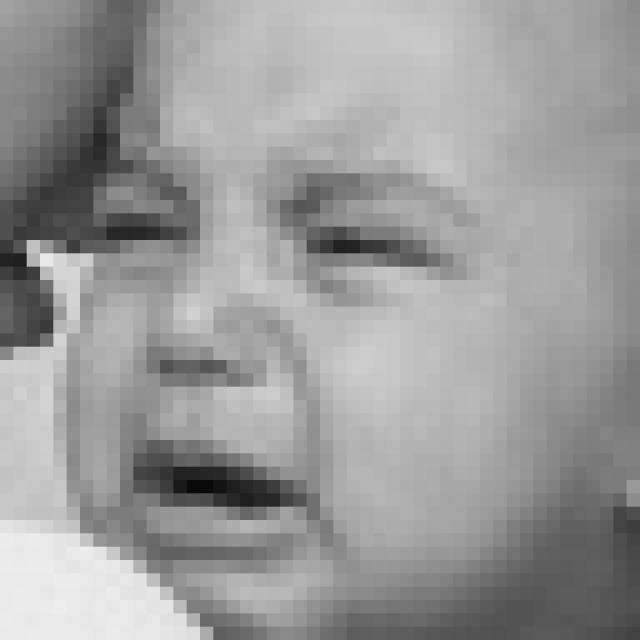sad: (92, 134, 505, 585)
